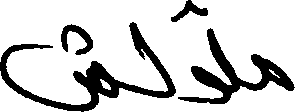ش: (0, 21, 118, 110)
ل: (127, 13, 175, 98), (225, 54, 239, 103)
م: (253, 51, 293, 91)
و: (189, 65, 227, 104)
